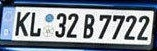character: (14, 10, 30, 36), (97, 13, 112, 39), (111, 14, 125, 41), (122, 15, 137, 40), (136, 15, 150, 41), (65, 11, 78, 38), (82, 12, 95, 39), (29, 11, 41, 37), (54, 12, 66, 38)
